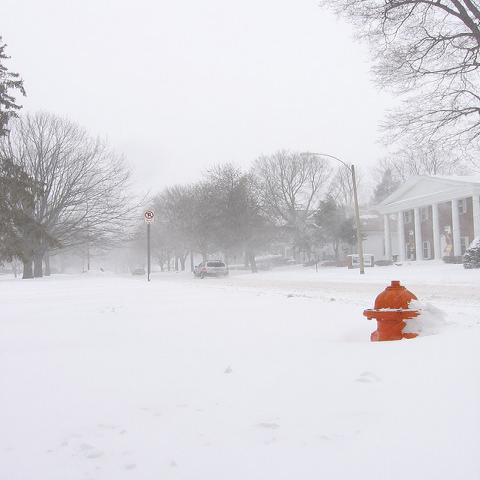car: (192, 260, 230, 279), (132, 268, 146, 275)
